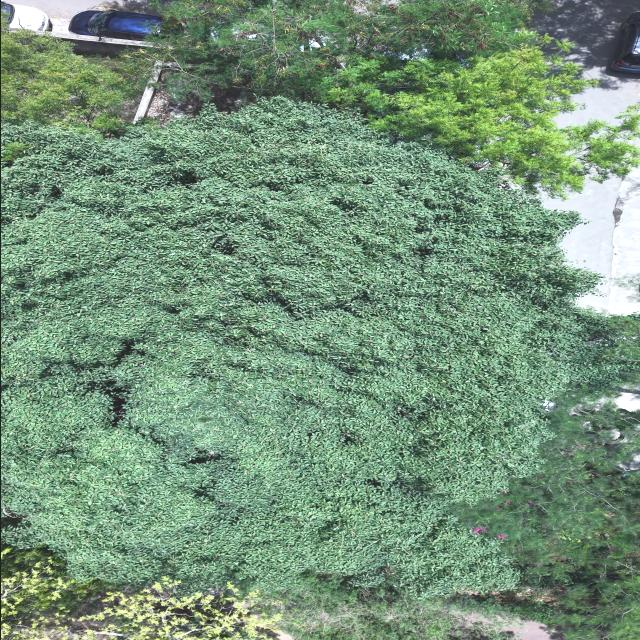VEGETATION_TREE: (1, 0, 639, 639), (2, 98, 632, 594), (155, 0, 639, 196), (154, 0, 638, 195), (316, 46, 639, 196), (1, 547, 507, 639), (459, 397, 639, 639), (155, 0, 547, 93), (1, 547, 278, 639), (22, 578, 276, 639), (272, 576, 506, 639), (1, 30, 146, 129), (1, 544, 119, 633), (448, 623, 514, 639)
